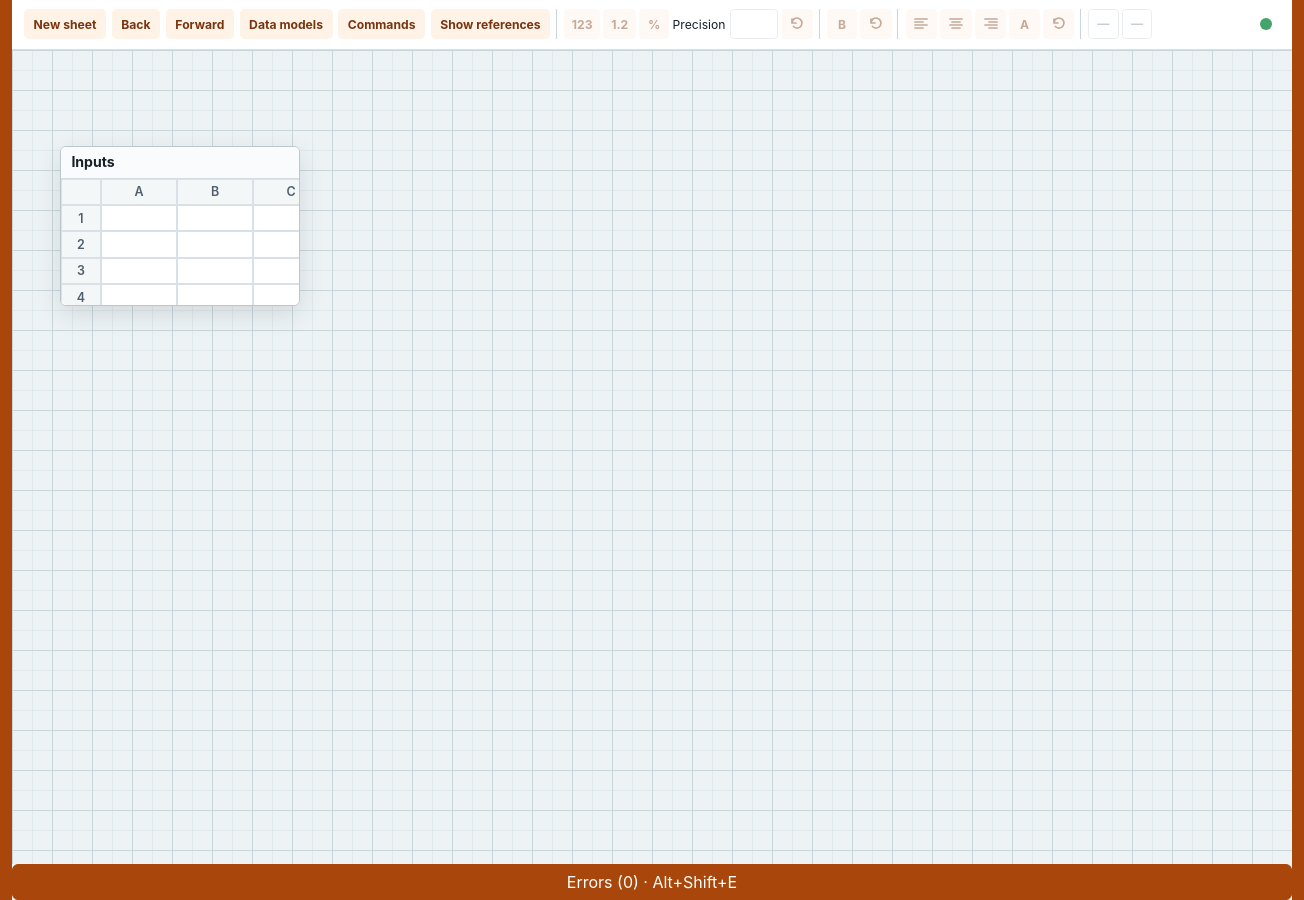
Test: App model binding workflow › reports a rejected binding persistence and restores the unbound sheet with its selection
This screenshot has width=1304, height=900.
Click the cell named "Inputs A1 empty cell" at coordinates (139, 218), box [101,205,177,231]
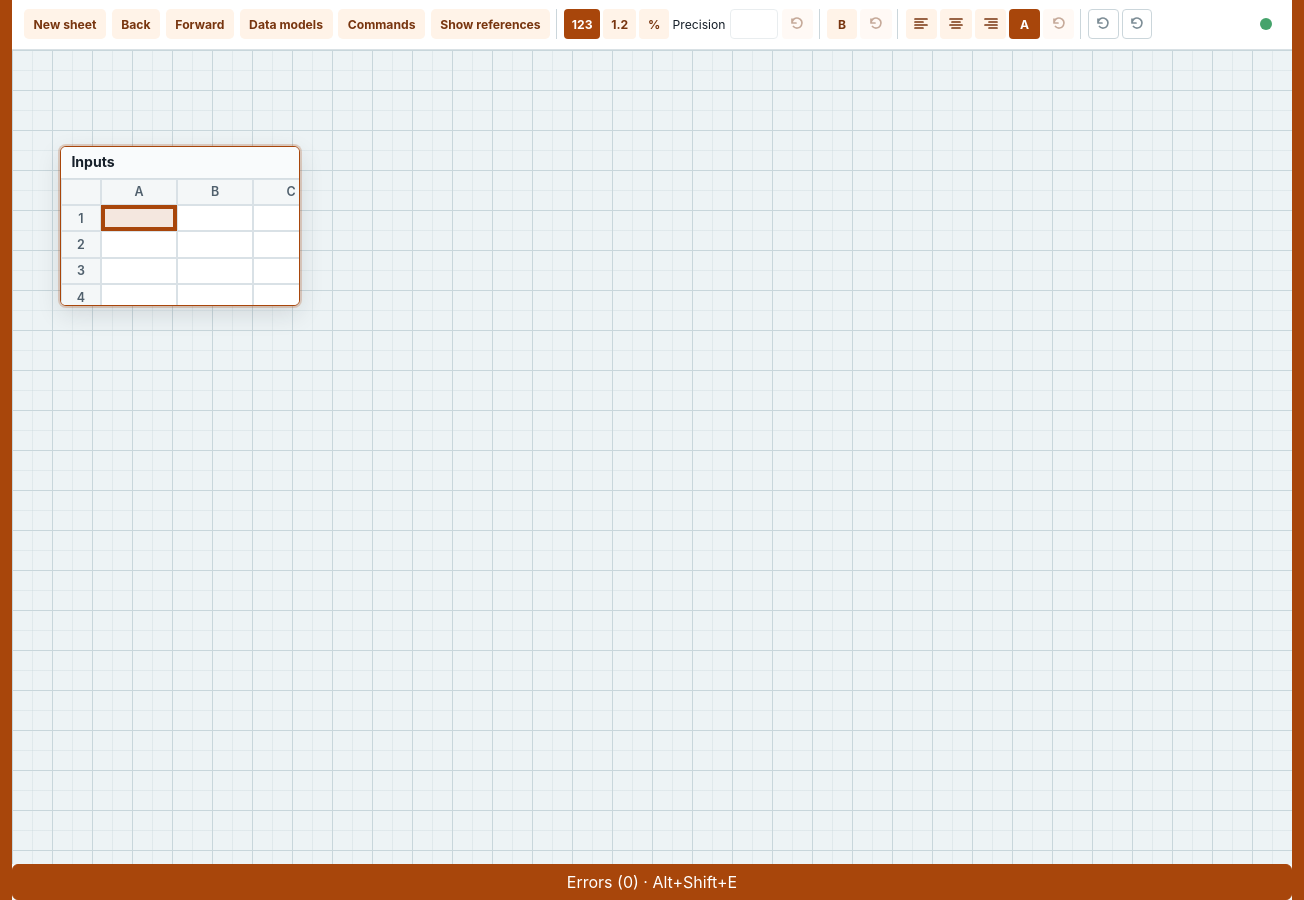
Right-click the element named "Sheet Inputs" at coordinates (180, 226), box [60,146,300,306]
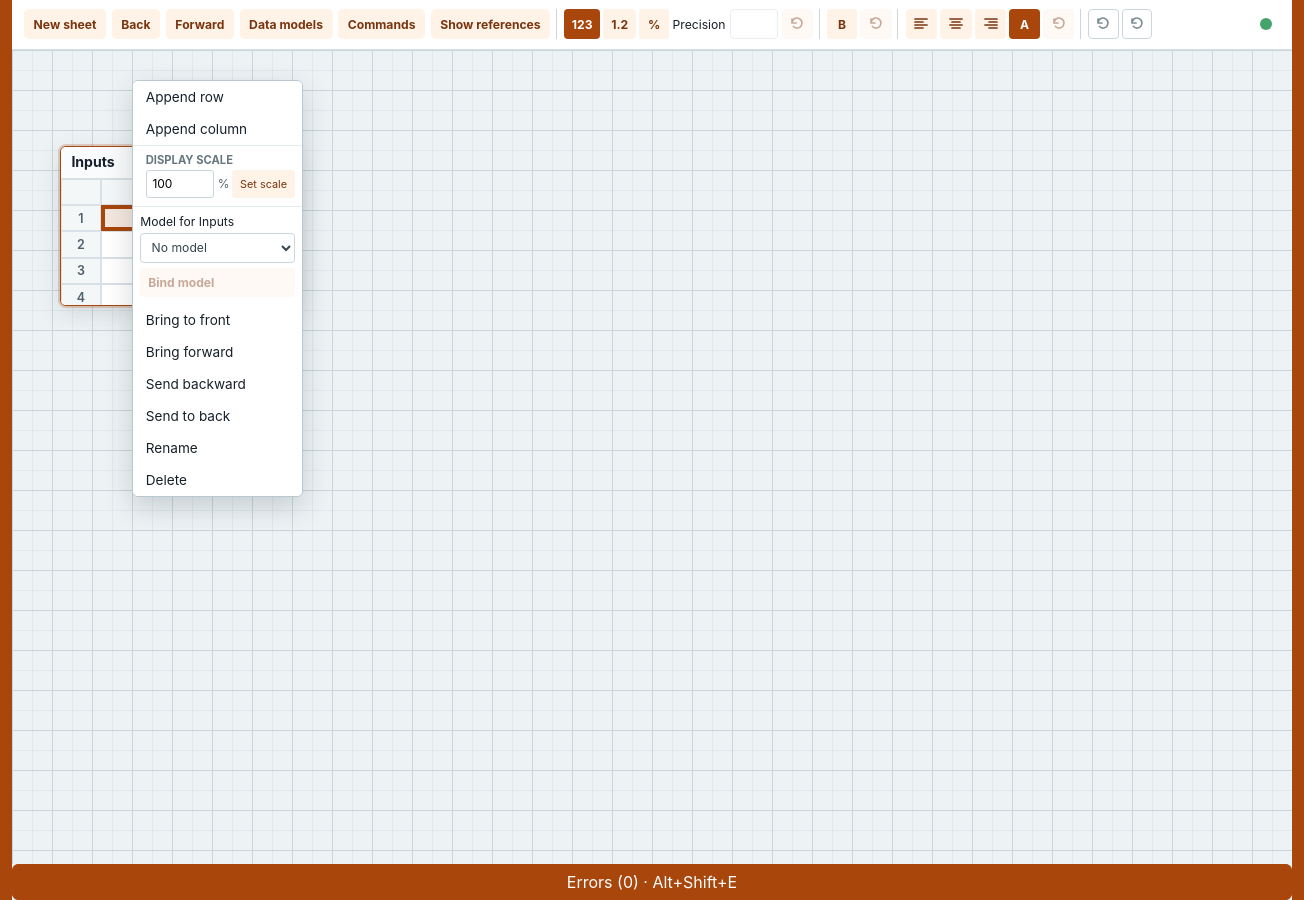
Select "Invoice" in the dropdown labelled "Model for Inputs" at coordinates (218, 248), box [140,233,295,263]
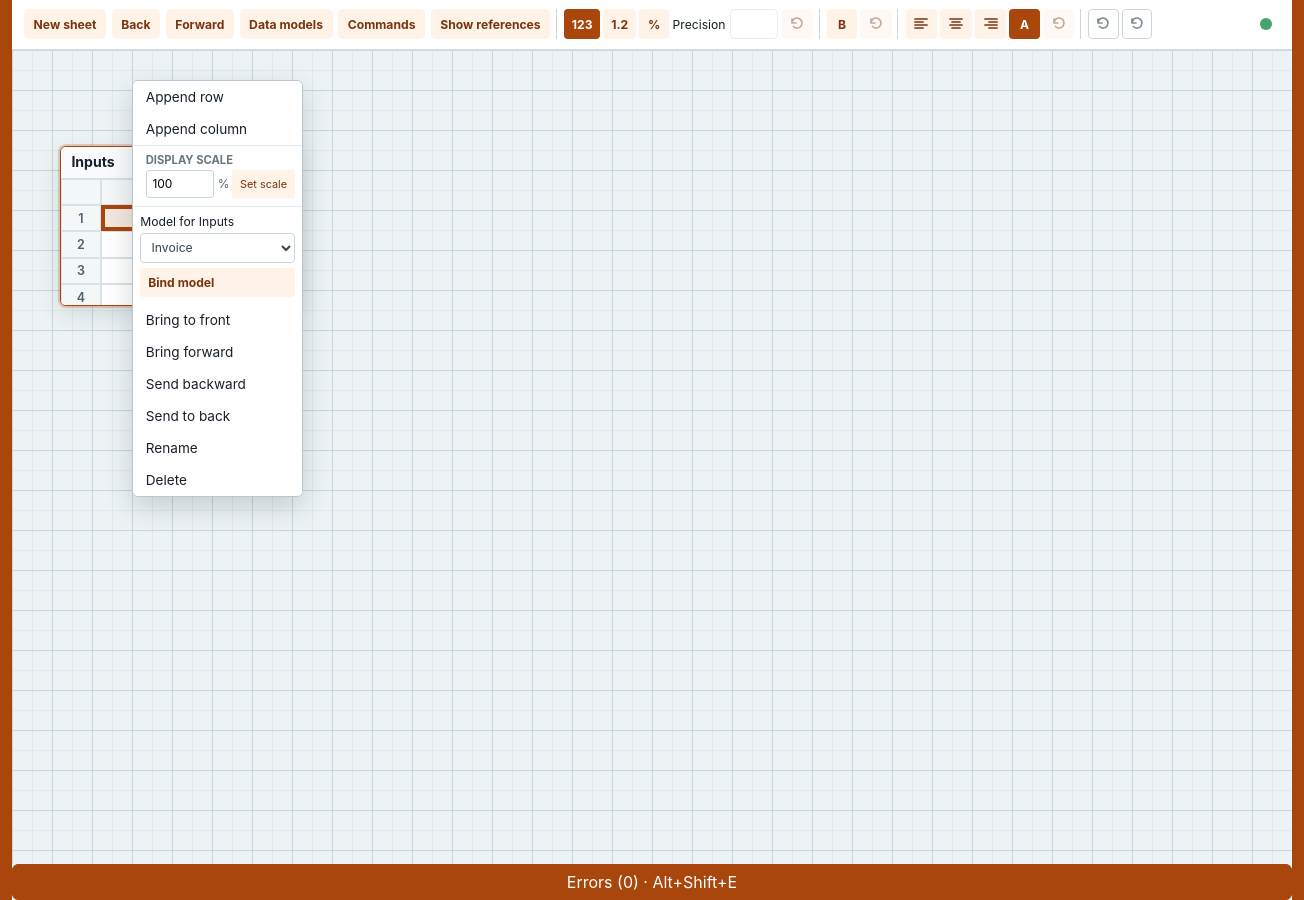
Click the button "Bind model" at coordinates (218, 282), box [140,268,295,297]
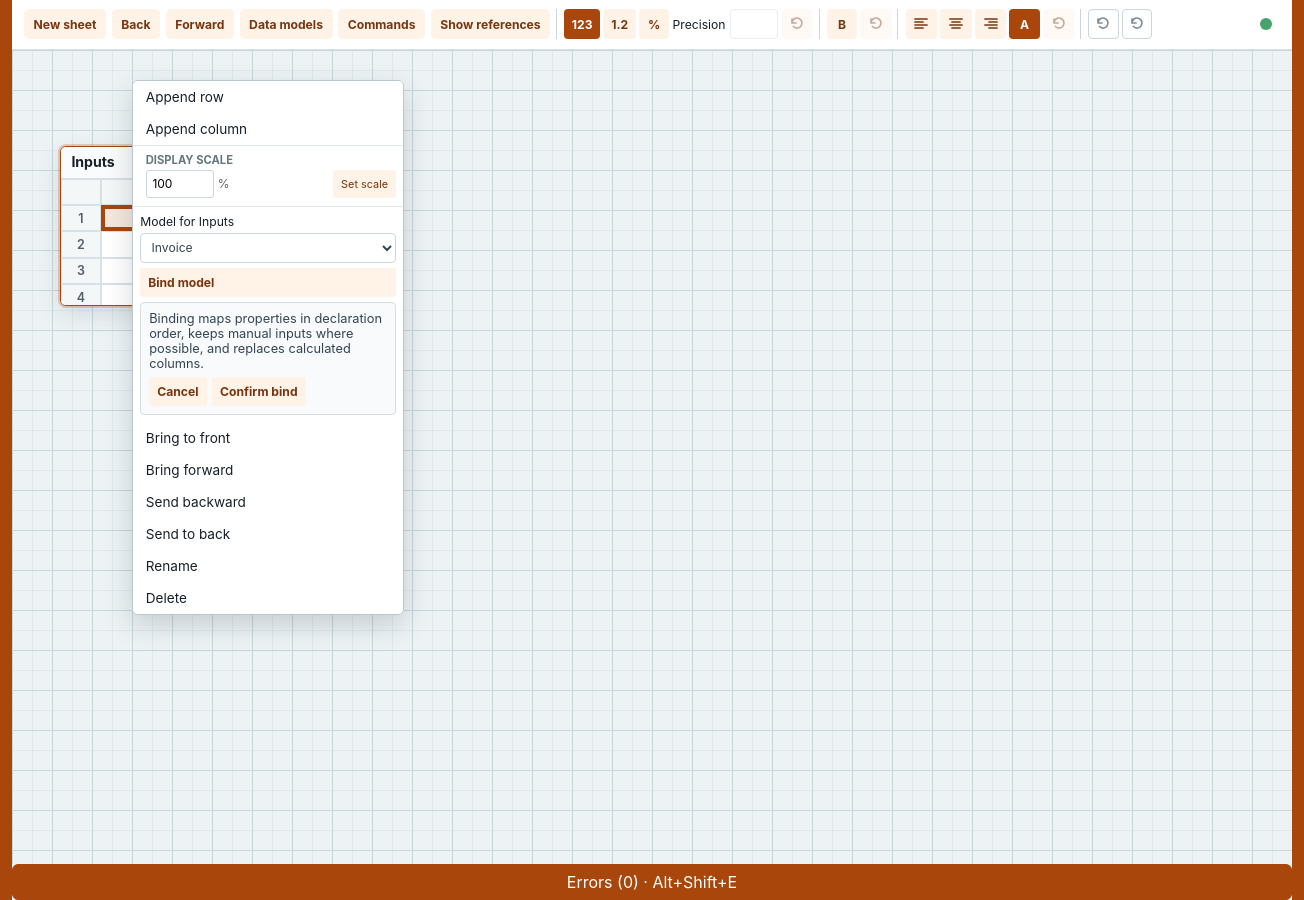
Click the button "Confirm bind" at coordinates (259, 391), box [212,377,306,406]
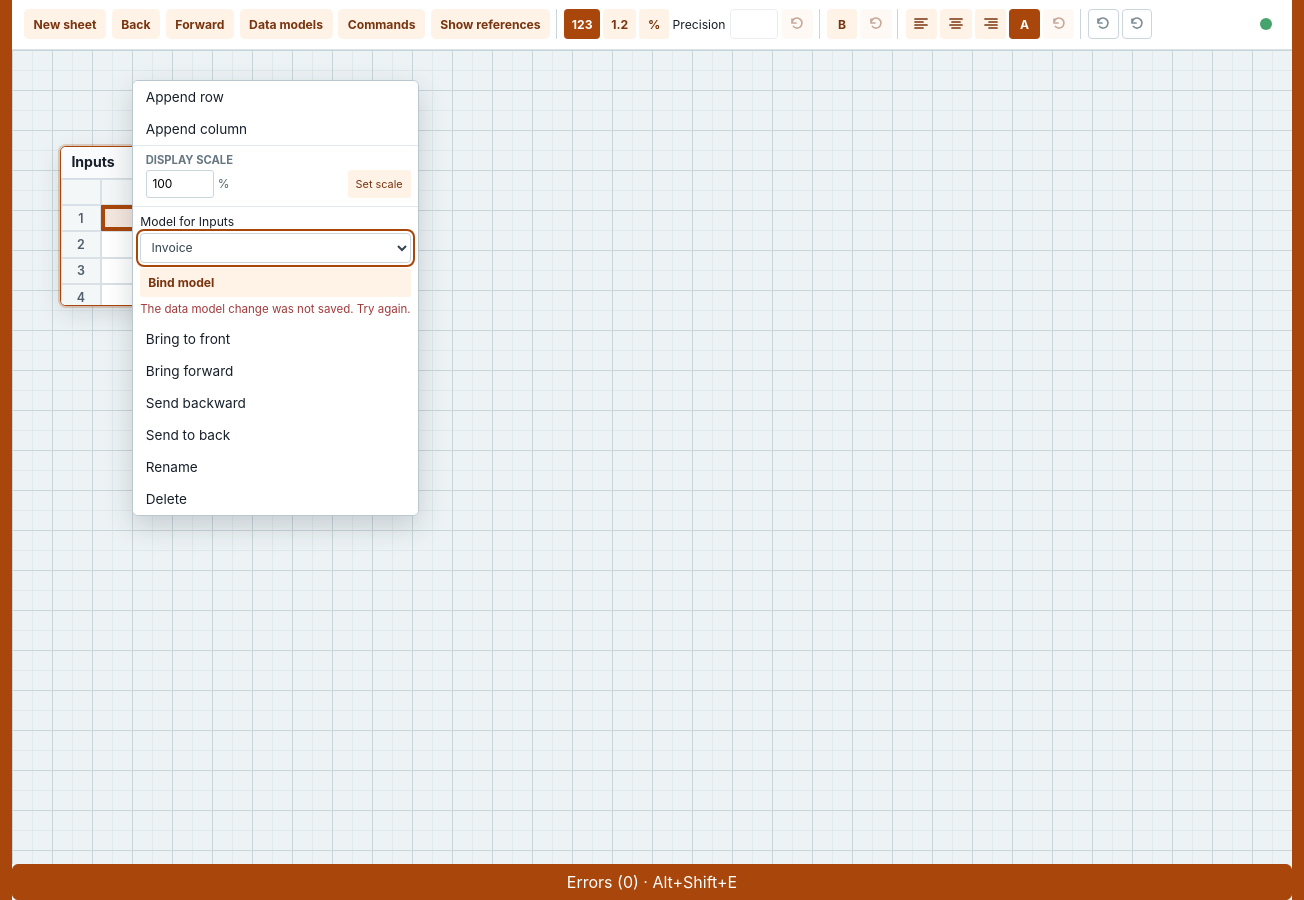
expect the button "Bind model" is enabled: met, box [140,268,411,297]
expect the message shows "The data model change was not saved.": met, box [140,302,411,316]
